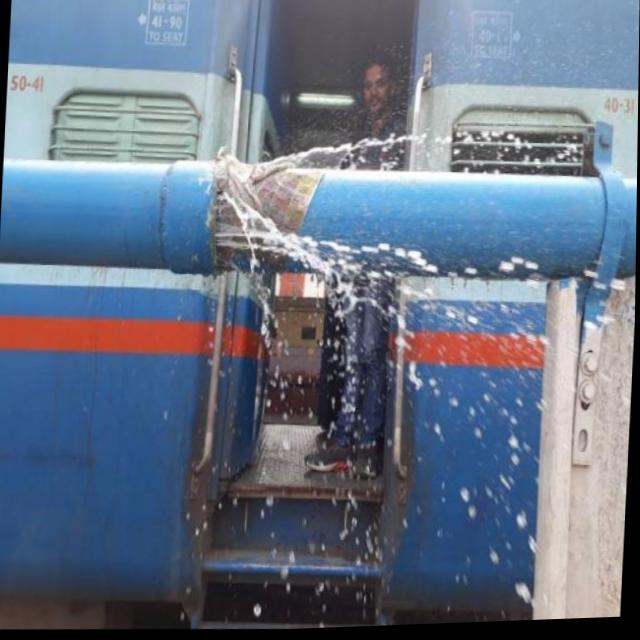leak: (204, 123, 636, 612)
